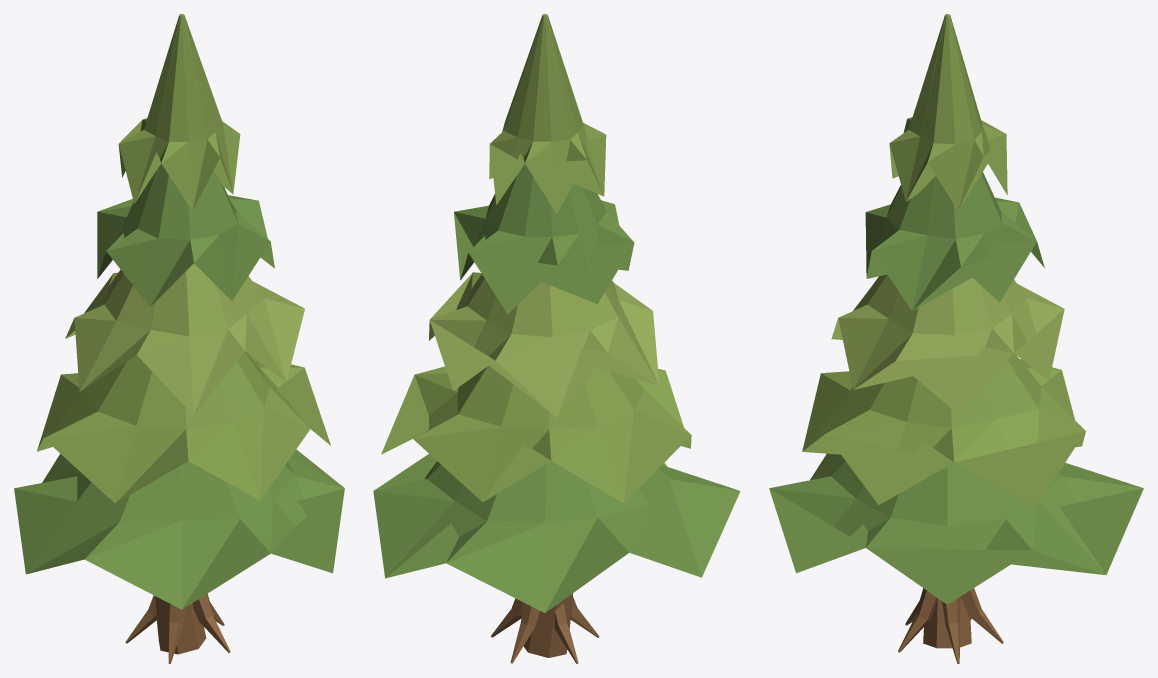
The model's file is Pine_Tall.fbx.
3 views of the same model, side by side, from view 1: azimuth 30°, elevation 25°; view 2: azimuth 150°, elevation 25°; view 3: azimuth 270°, elevation 25° (orthographic).
Parts seen in each view (by area): view 1: Pine_Tall; view 2: Pine_Tall; view 3: Pine_Tall.
Boxes of the visible parts, x1=… form: Pine_Tall: x1=14, y1=14, x2=344, y2=663; Pine_Tall: x1=373, y1=14, x2=740, y2=663; Pine_Tall: x1=769, y1=14, x2=1143, y2=663.
Size of the model in its own units: 329 by 669 by 361.
